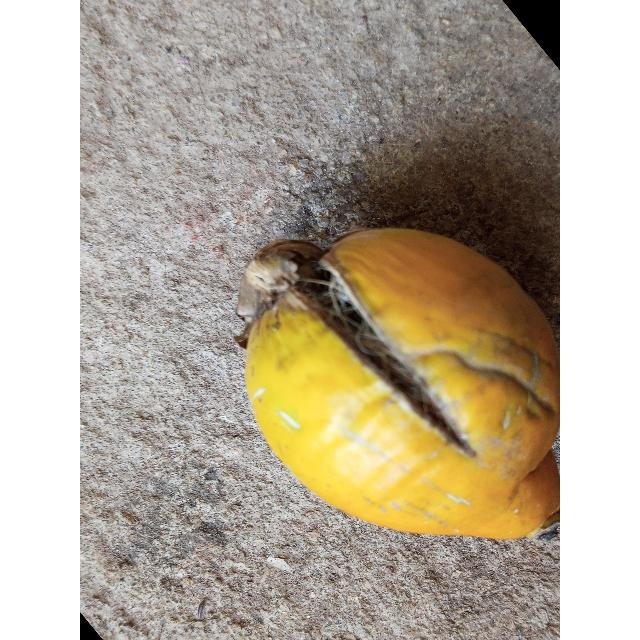damaged: (236, 229, 560, 539)
